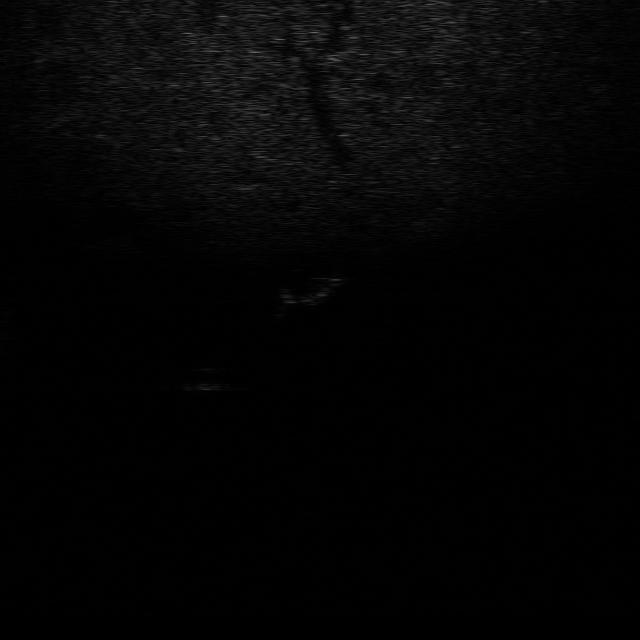ball: (176, 366, 230, 394)
human body: (270, 272, 342, 318)
